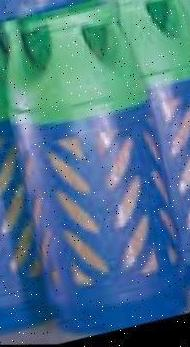cylinder: (1, 0, 190, 347)
